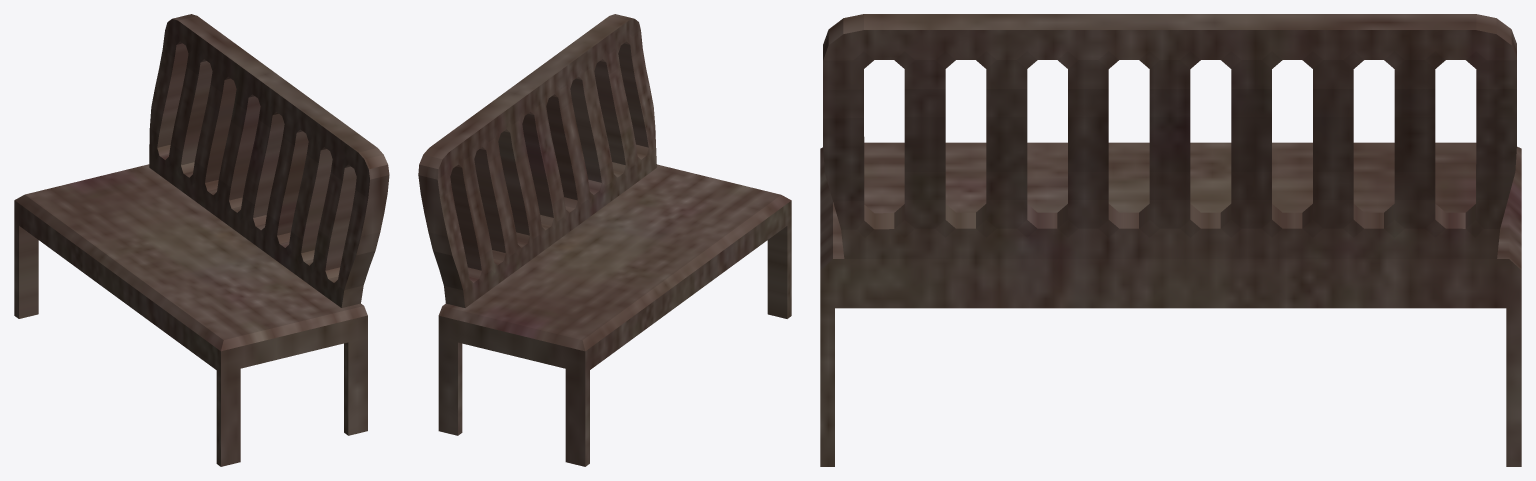
File: Bench.fbx
3 renders of one model, left to right at view 1: azimuth 30°, elevation 25°; view 2: azimuth 150°, elevation 25°; view 3: azimuth 270°, elevation 25°, orthographic. The views are drawn at different scales.
Visible parts, largest first — view 1: Bench; view 2: Bench; view 3: Bench.
Part boxes in pixels (bbox=[...]): Bench: bbox=[14, 14, 389, 466]; Bench: bbox=[418, 14, 791, 466]; Bench: bbox=[820, 14, 1521, 466].
Bounding box in the file's own units: 2.89 × 4.37 × 6.09.
1 material, 1 textured.
